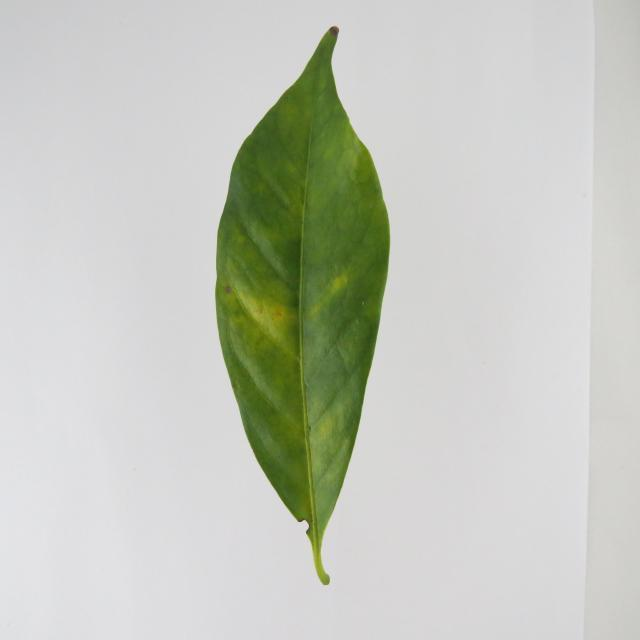DeficienciaNutricional-Hierro: (216, 27, 390, 585)
